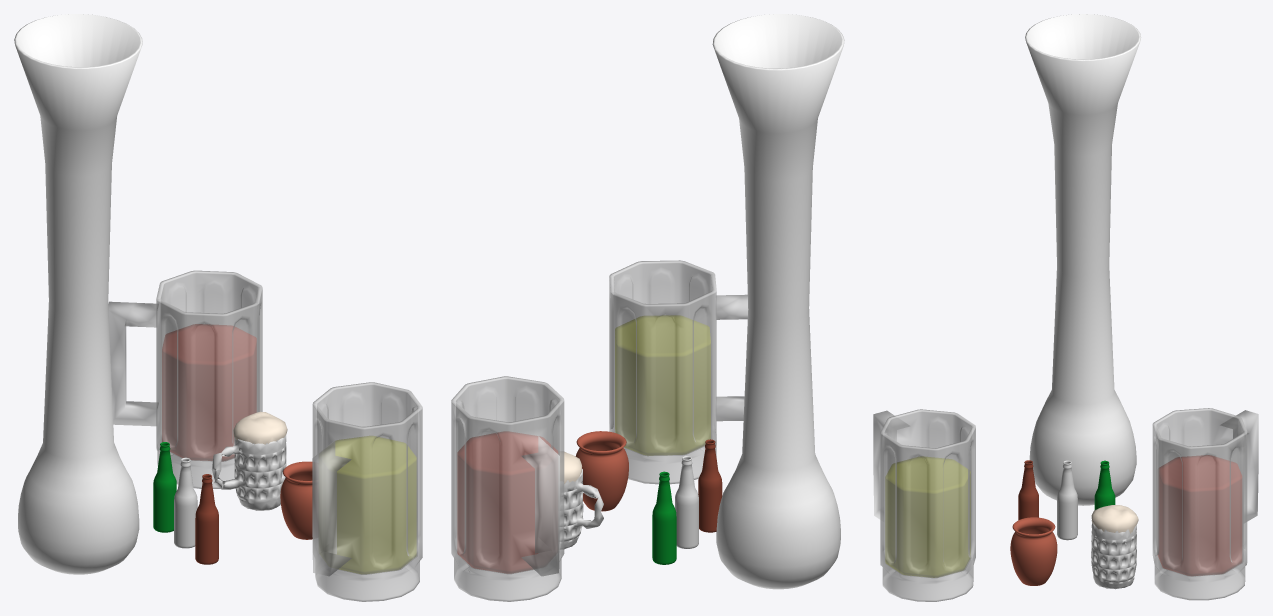
The model's file is menu5.glb.
The picture shows the model from 3 angles, left to right: view 1: azimuth 30°, elevation 25°; view 2: azimuth 150°, elevation 25°; view 3: azimuth 270°, elevation 25°; orthographic projection. The views are drawn at different scales.
Parts seen in each view (by area): view 1: yarda, tarro1, tarro2, liquido2, liquido1, tarro_cerveza, cantarito, botella vidrio1, botella vidrio3, botella vidrio2; view 2: yarda, tarro2, tarro1, liquido1, liquido2, cantarito, tarro_cerveza, botella vidrio2, botella vidrio3, botella vidrio1; view 3: yarda, tarro2, tarro1, liquido1, liquido2, tarro_cerveza, cantarito, botella vidrio3, botella vidrio1, botella vidrio2.
Part boxes in pixels (left/top/right/bottom): yarda: left=14, top=14, right=142, bottom=574; tarro1: left=312, top=382, right=422, bottom=601; tarro2: left=108, top=270, right=262, bottom=488; liquido2: left=162, top=324, right=256, bottom=460; liquido1: left=335, top=436, right=416, bottom=573; tarro_cerveza: left=211, top=411, right=287, bottom=510; cantarito: left=280, top=461, right=312, bottom=539; botella vidrio1: left=195, top=474, right=218, bottom=564; botella vidrio3: left=174, top=457, right=197, bottom=548; botella vidrio2: left=153, top=442, right=176, bottom=532; yarda: left=712, top=14, right=844, bottom=589; tarro2: left=451, top=376, right=564, bottom=601; tarro1: left=609, top=260, right=748, bottom=484; liquido1: left=615, top=315, right=710, bottom=455; liquido2: left=457, top=431, right=557, bottom=573; cantarito: left=575, top=431, right=628, bottom=511; tarro_cerveza: left=560, top=451, right=603, bottom=549; botella vidrio2: left=652, top=471, right=676, bottom=564; botella vidrio3: left=675, top=456, right=698, bottom=548; botella vidrio1: left=698, top=439, right=722, bottom=532; yarda: left=1025, top=14, right=1141, bottom=505; tarro2: left=1152, top=408, right=1258, bottom=600; tarro1: left=873, top=409, right=975, bottom=601; liquido1: left=885, top=456, right=970, bottom=577; liquido2: left=1158, top=455, right=1241, bottom=575; tarro_cerveza: left=1091, top=505, right=1138, bottom=589; cantarito: left=1010, top=517, right=1057, bottom=585; botella vidrio3: left=1057, top=460, right=1077, bottom=540; botella vidrio1: left=1018, top=460, right=1038, bottom=520; botella vidrio2: left=1094, top=460, right=1115, bottom=509.
Bounding box in the file's own units: 0.941 × 1.55 × 1.18.
